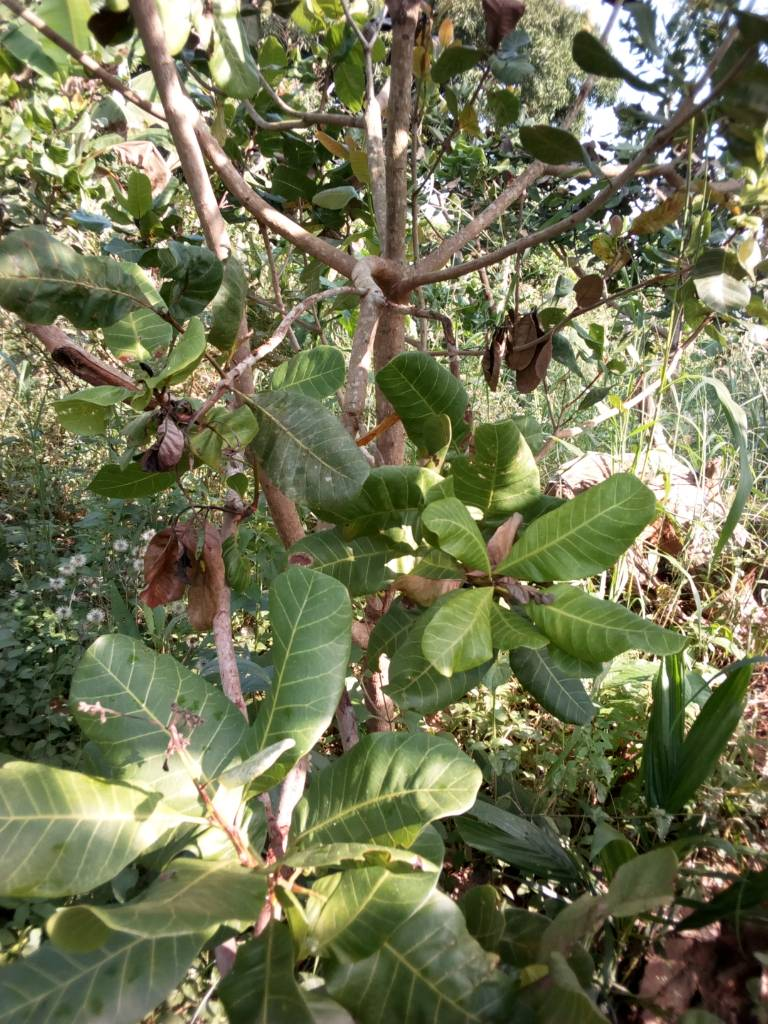Dessèchement des bourgeons: (152, 697, 271, 837), (138, 382, 180, 437)
